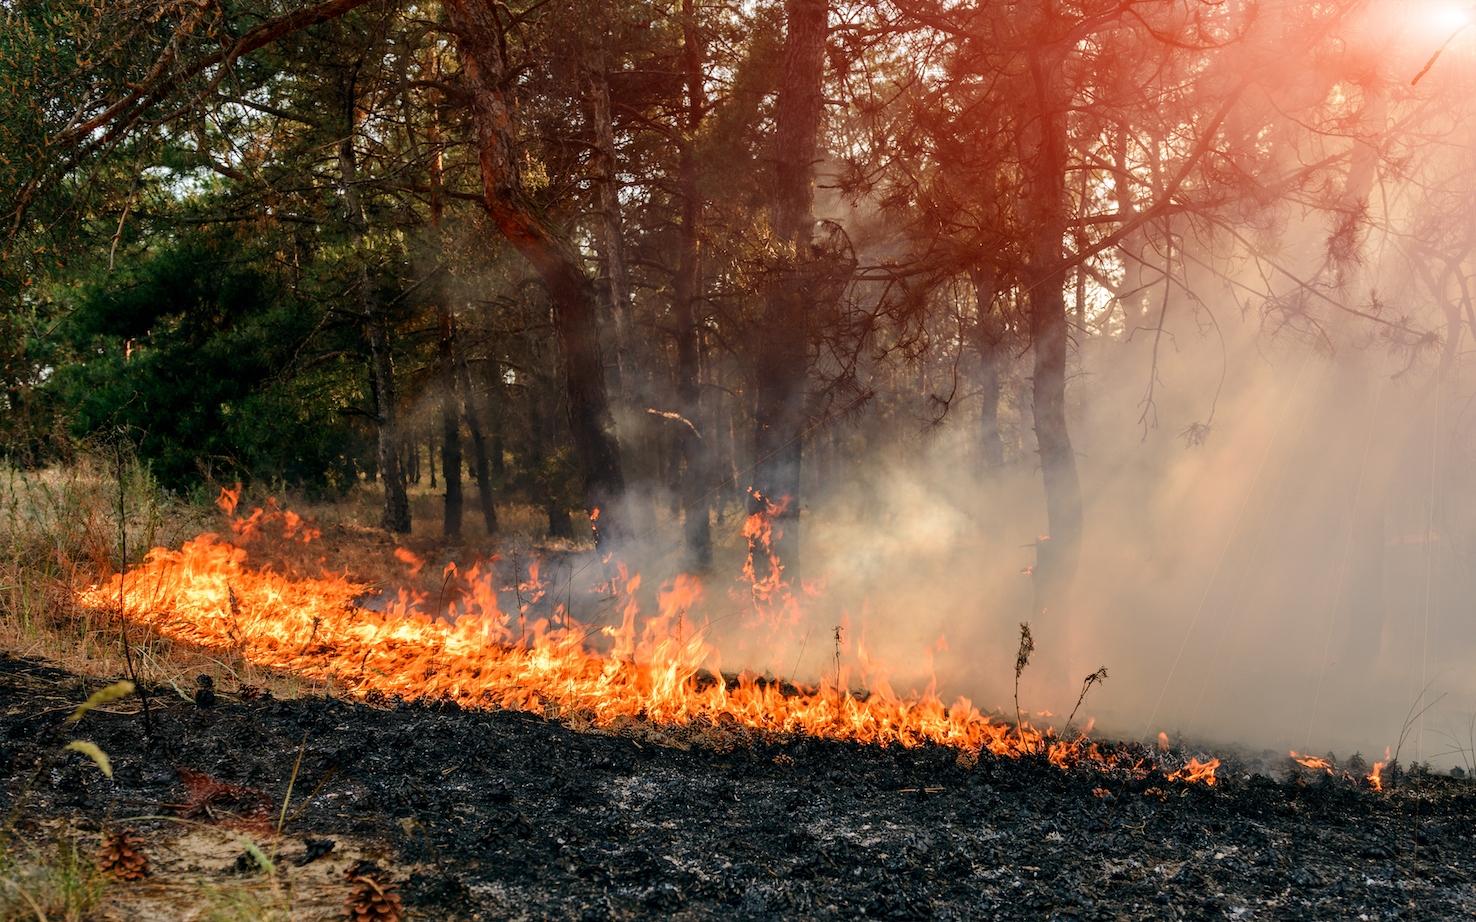fire: (117, 479, 1436, 831)
